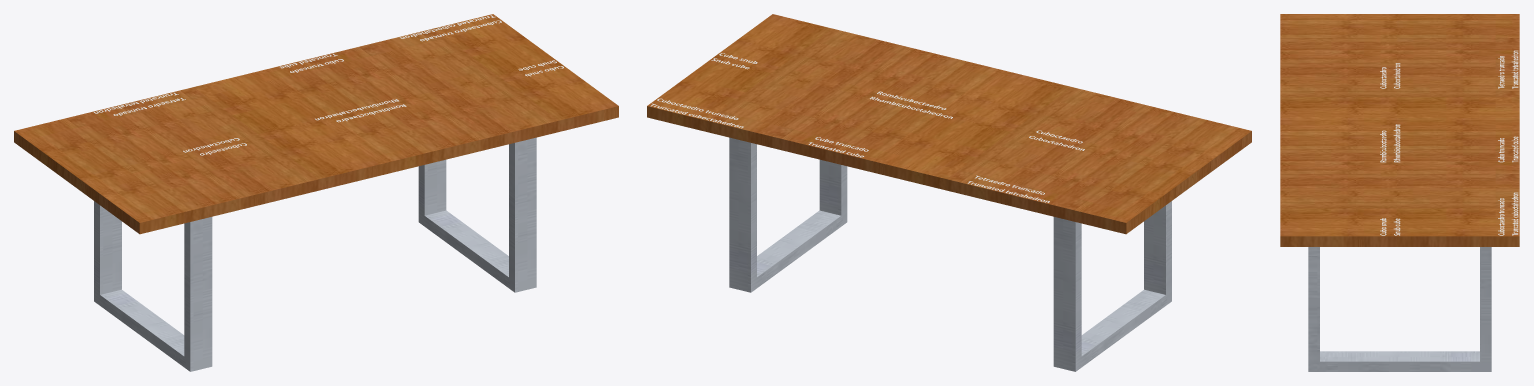
File: mesa_Arquimedes2.glb
The picture shows the model from 3 angles, left to right: view 1: azimuth 30°, elevation 25°; view 2: azimuth 150°, elevation 25°; view 3: azimuth 270°, elevation 25°; orthographic projection. The views are drawn at different scales.
Visible parts, largest first — view 1: object 1, Composant#1 (×2); view 2: object 1, Composant#1 (×2); view 3: object 1, Composant#1, Cuboctaedro trun, Rombicuboctaedro, Tetraedro trunca, Cubo truncado Tr, Cuboctaedro Cubo.
Boxes of the visible parts, box(x1,y1,x2,y2) form: object 1: box(14, 14, 618, 234); Composant#1 (×2): box(94, 137, 536, 371); object 1: box(647, 14, 1251, 234); Composant#1 (×2): box(729, 137, 1171, 371); object 1: box(1280, 14, 1519, 246); Composant#1: box(1308, 247, 1491, 371); Cuboctaedro trun: box(1498, 192, 1518, 235); Rombicuboctaedro: box(1380, 124, 1400, 162); Tetraedro trunca: box(1498, 50, 1518, 88); Cubo truncado Tr: box(1498, 136, 1518, 162); Cuboctaedro Cubo: box(1380, 63, 1400, 88).
Size of the model in its own units: 2.2 by 0.771 by 1.
Materials: 3 (2 with a texture image).
